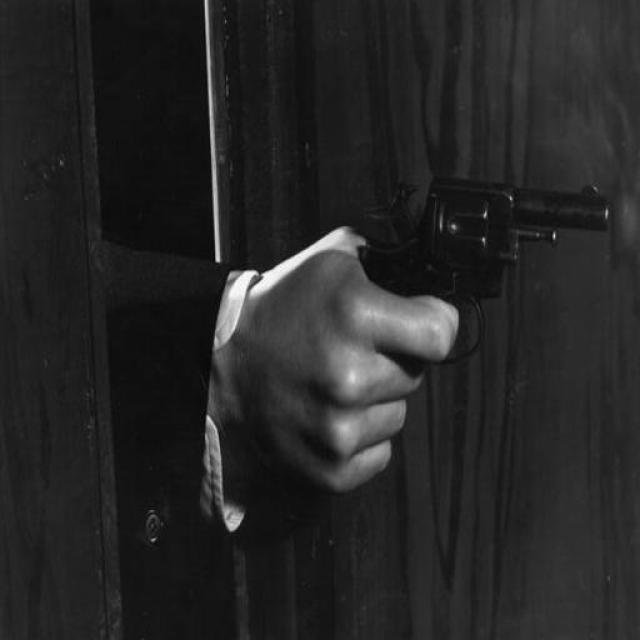pistol: (335, 179, 612, 365)
